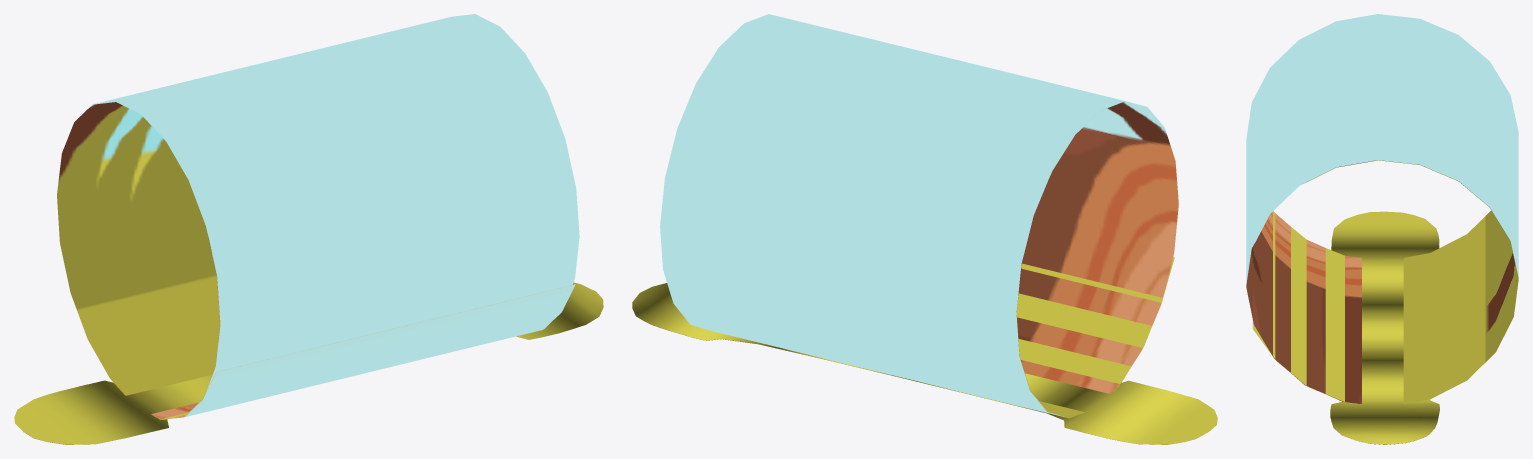
3 views of the same model, side by side, from view 1: azimuth 30°, elevation 25°; view 2: azimuth 150°, elevation 25°; view 3: azimuth 270°, elevation 25° (orthographic). The views are drawn at different scales.
Parts seen in each view (by area): view 1: toilet_paper, hanger; view 2: toilet_paper, hanger; view 3: toilet_paper, hanger.
Boxes of the visible parts, x1,y1,x2,y2 form: toilet_paper: [57, 14, 579, 419]; hanger: [14, 282, 603, 444]; toilet_paper: [660, 14, 1178, 418]; hanger: [632, 283, 1217, 444]; toilet_paper: [1246, 14, 1518, 403]; hanger: [1330, 211, 1439, 444].
Size of what is drawn, in the model's own units: 531 by 262 by 262.
